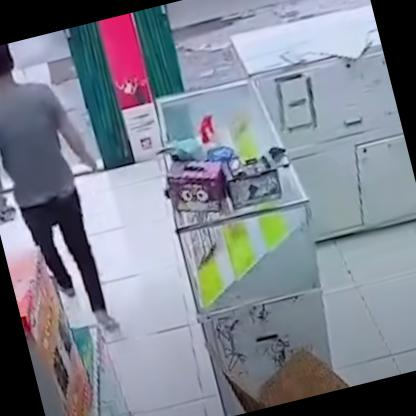Human Body: (0, 28, 146, 364)
